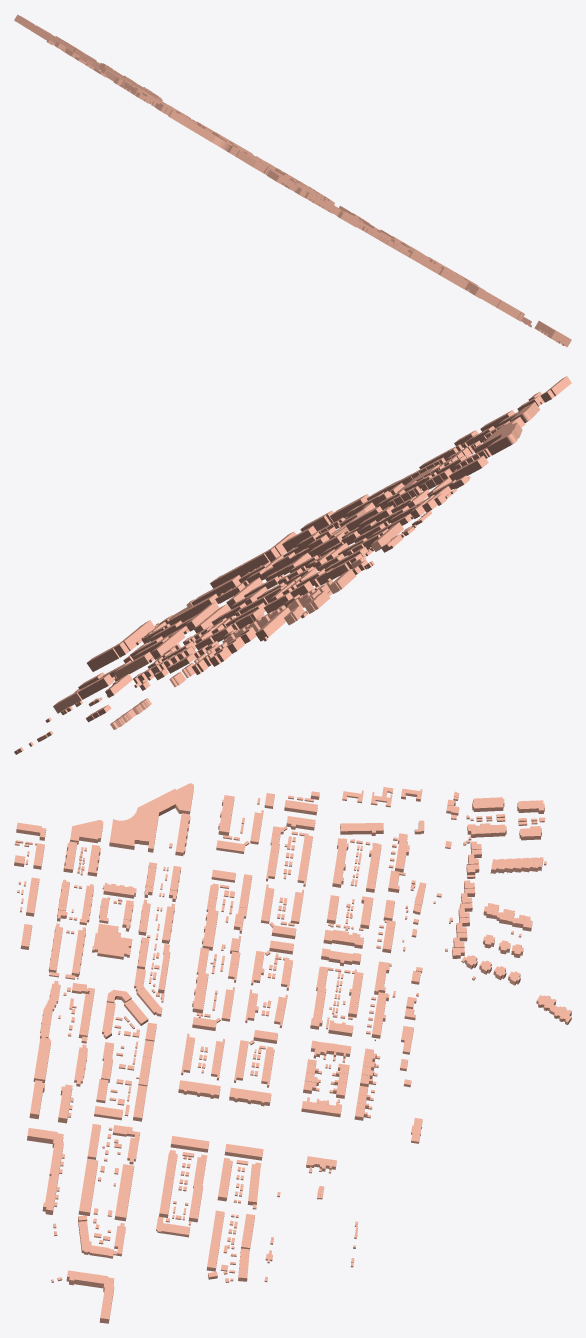
3 views of the same model, one above another, from view 1: azimuth 30°, elevation 25°; view 2: azimuth 150°, elevation 25°; view 3: azimuth 270°, elevation 25° (orthographic). The views are drawn at different scales.
Bounding box in the file's own units: 548 × 417 × 619.
